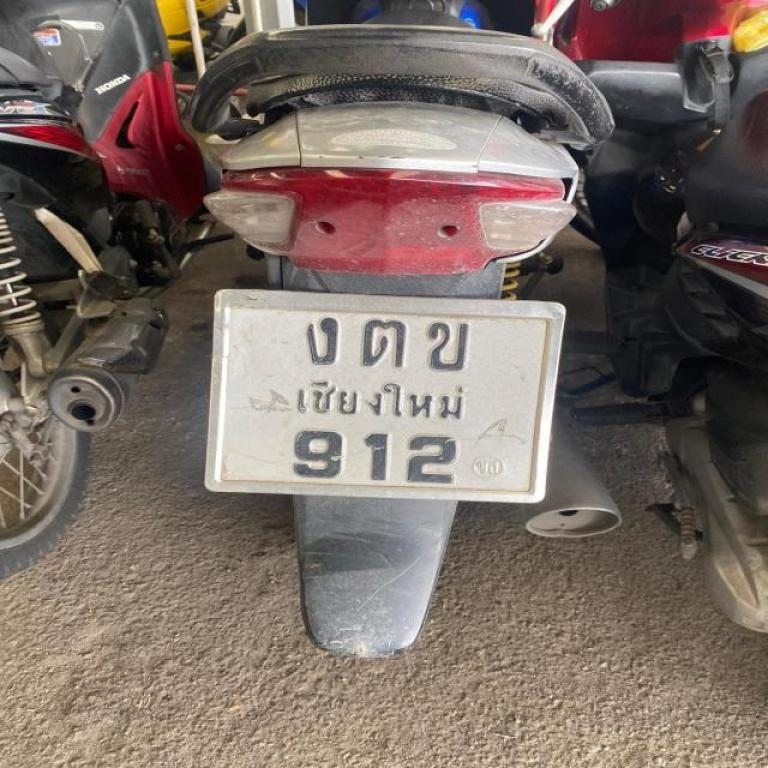license plate: (205, 289, 564, 502)
